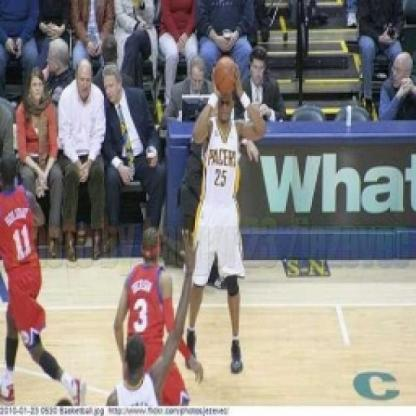basketball: (213, 55, 243, 97)
